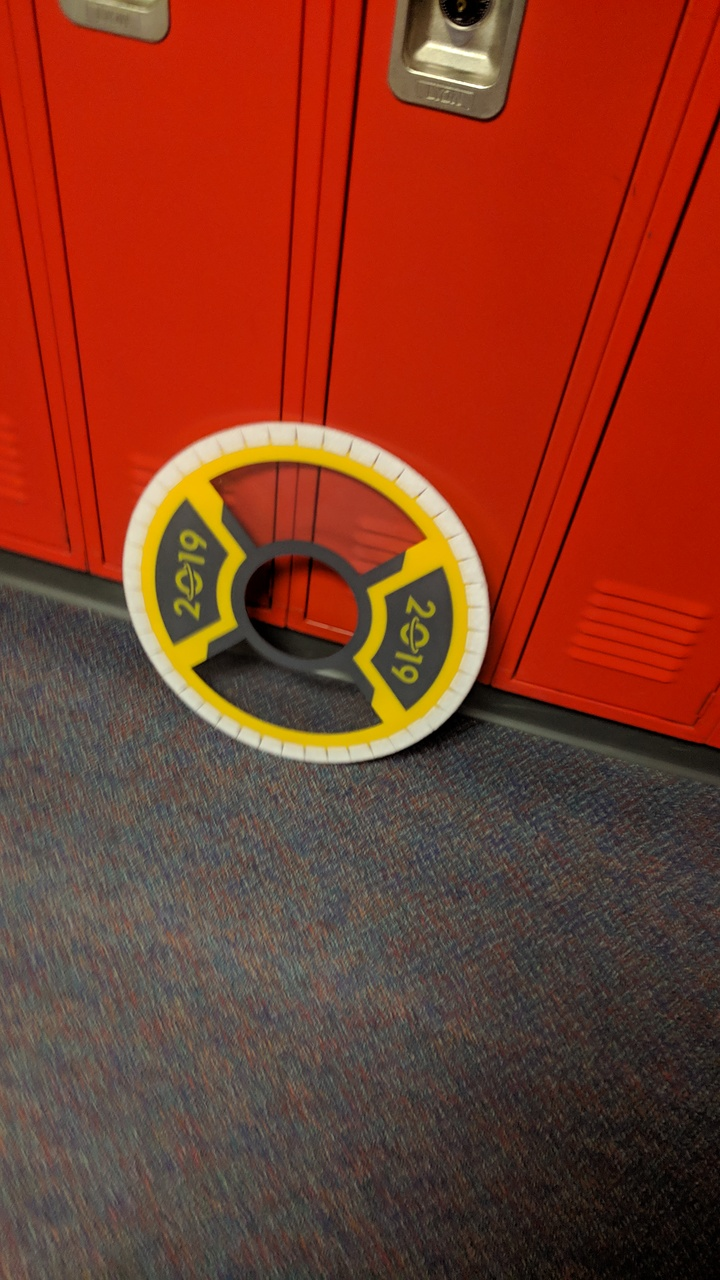hatch_panel: (119, 418, 513, 780)
